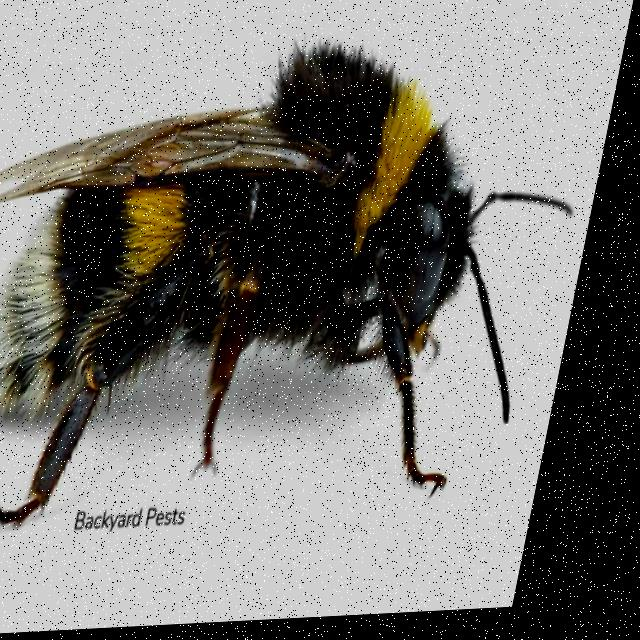Braunsapis: (0, 19, 599, 589)
